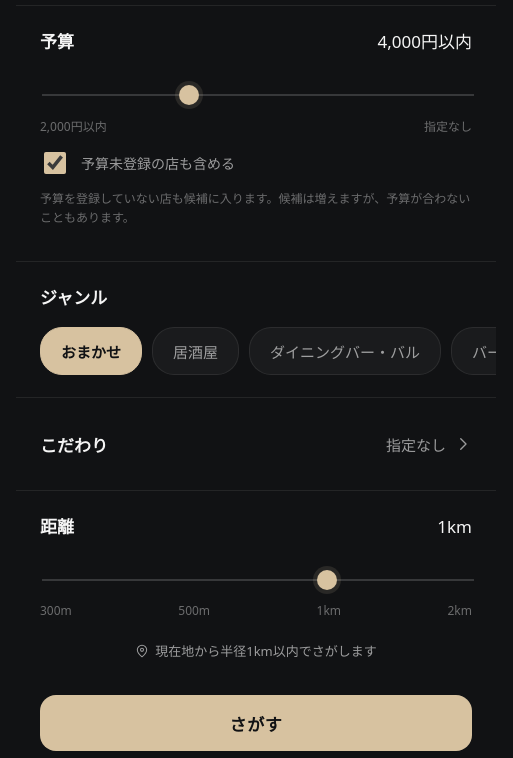
Test: 候補なし › 候補を出し切っても候補なしを表示する
Step 1. Click the button "さがす" → [256, 723], box x1=40 y1=695 x2=472 y2=751
(page scrolled)
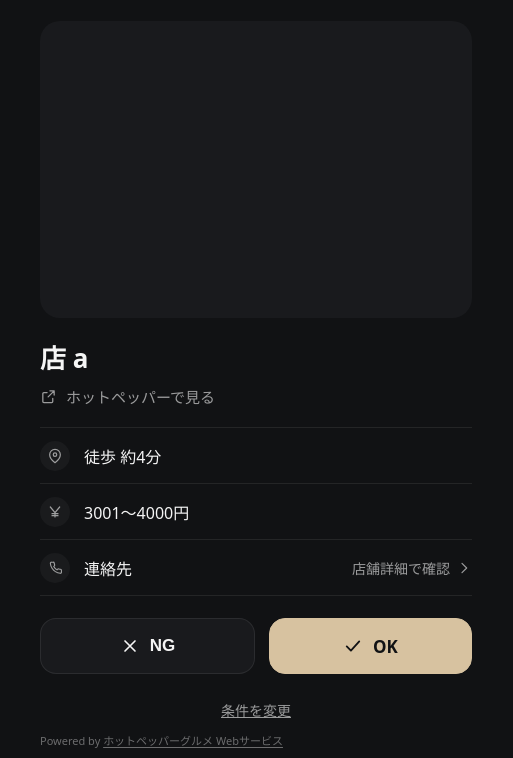
Check: the button "NG" is shown
Step 2. Click the button "NG" → [148, 646], box x1=40 y1=618 x2=255 y2=674
(page scrolled)
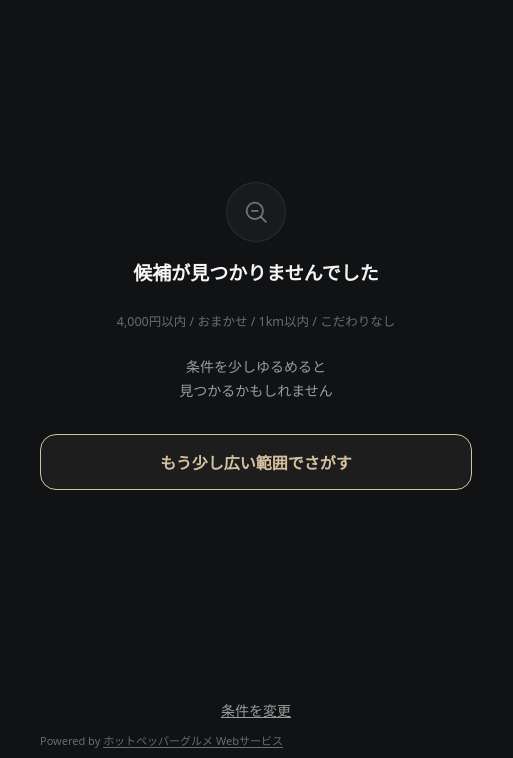
Check: the heading "候補が見つかりませんでした" is shown, box x1=133 y1=258 x2=379 y2=286
